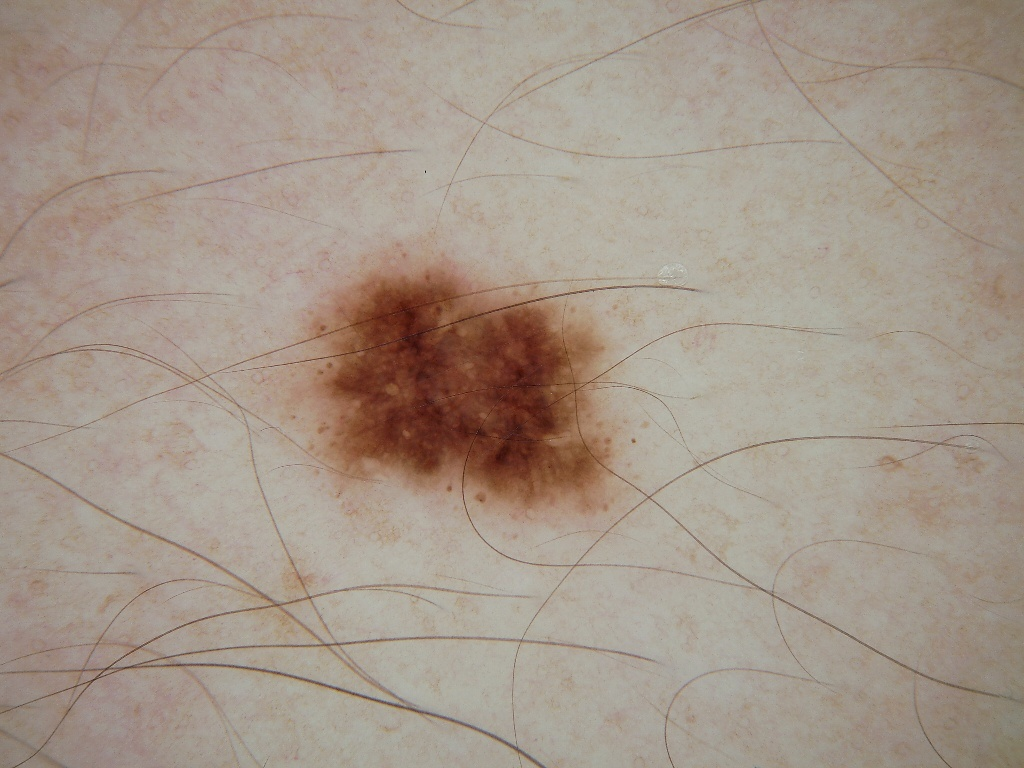Detected Lesion: (301, 255, 637, 522)
